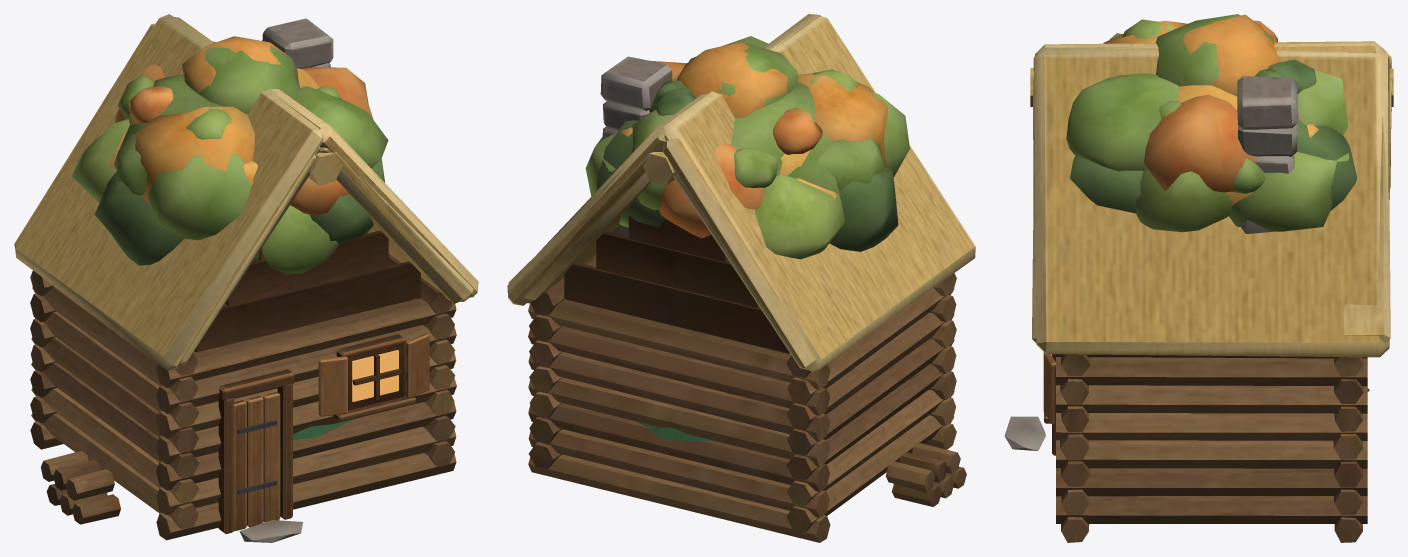
File: env-thorn-path.glb
3 renders of one model, left to right at view 1: azimuth 30°, elevation 25°; view 2: azimuth 150°, elevation 25°; view 3: azimuth 270°, elevation 25°, orthographic. The views are drawn at different scales.
Parts seen in each view (by area): view 1: hut, tree-green, tree; view 2: hut, tree-green, tree, pine; view 3: hut, tree, tree-green.
Boxes of the visible parts, x1,y1,x2,y2 form: hut: (14,14,478,542); tree-green: (72,41,384,274); tree: (109,36,388,215); hut: (507,14,975,542); tree-green: (596,43,909,259); tree: (585,36,887,243); pine: (637,260,728,441); hut: (1004,41,1393,542); tree: (1066,14,1349,231); tree-green: (1070,14,1356,232).
Size of the model in its own units: 2.74 by 3.22 by 2.42.
2 materials, 2 textured.
